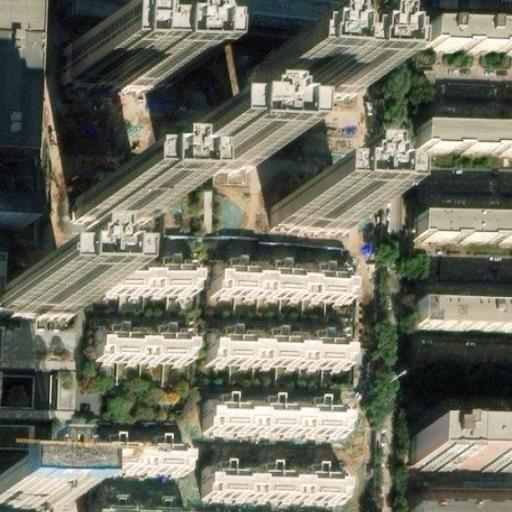building: (215, 391, 356, 429), (223, 258, 359, 295), (212, 462, 351, 498), (244, 58, 347, 101), (218, 328, 357, 359), (64, 44, 171, 84), (99, 428, 194, 473), (109, 322, 204, 367), (101, 254, 196, 298), (165, 133, 248, 176), (0, 367, 68, 418), (409, 439, 512, 472), (0, 324, 71, 369), (416, 304, 512, 334), (4, 274, 86, 305), (104, 181, 174, 216), (272, 197, 342, 232), (416, 125, 512, 150), (414, 217, 512, 241), (426, 24, 512, 51), (0, 474, 72, 505), (103, 489, 199, 512), (410, 494, 511, 512), (0, 177, 28, 224)
